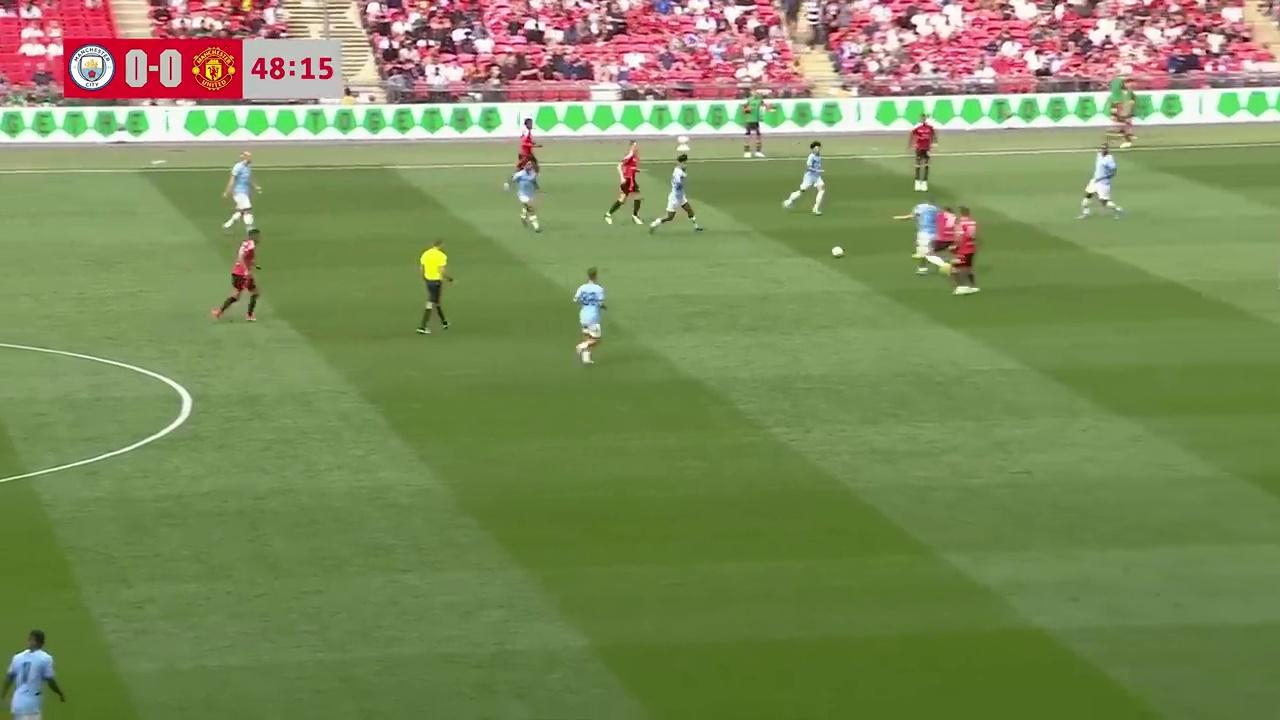ball: (830, 241, 845, 258)
player: (2, 629, 67, 720), (892, 195, 949, 277), (211, 233, 261, 323), (649, 159, 702, 234), (1078, 142, 1124, 220), (572, 267, 607, 365), (221, 151, 261, 234), (782, 141, 826, 215), (605, 142, 643, 225), (952, 203, 986, 291), (504, 155, 542, 232), (929, 200, 960, 280), (909, 116, 937, 190), (508, 128, 541, 177)
referee: (416, 239, 455, 335)
